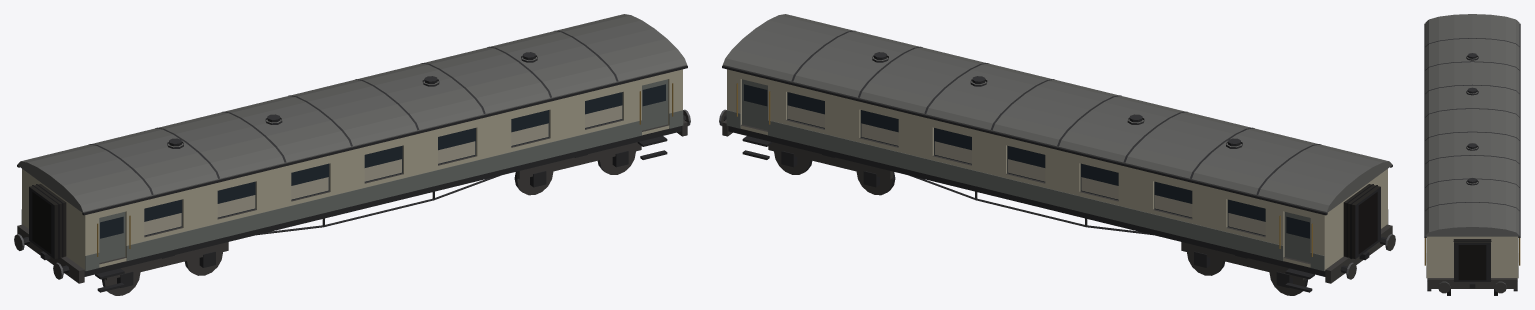
Rendered from coach_medic.glb.
3 renders of one model, left to right at view 1: azimuth 30°, elevation 25°; view 2: azimuth 150°, elevation 25°; view 3: azimuth 270°, elevation 25°, orthographic. The views are drawn at different scales.
Visible parts, largest first — view 1: coach_medic_LOD0; view 2: coach_medic_LOD0; view 3: coach_medic_LOD0.
Part boxes in pixels (x1,y1,x2,y2): coach_medic_LOD0: [14, 14, 690, 295]; coach_medic_LOD0: [719, 14, 1395, 295]; coach_medic_LOD0: [1424, 14, 1520, 295].
Size of what is drawn, in the model's own units: 16 by 3.02 by 2.94.
Materials: 1 (1 with a texture image).
